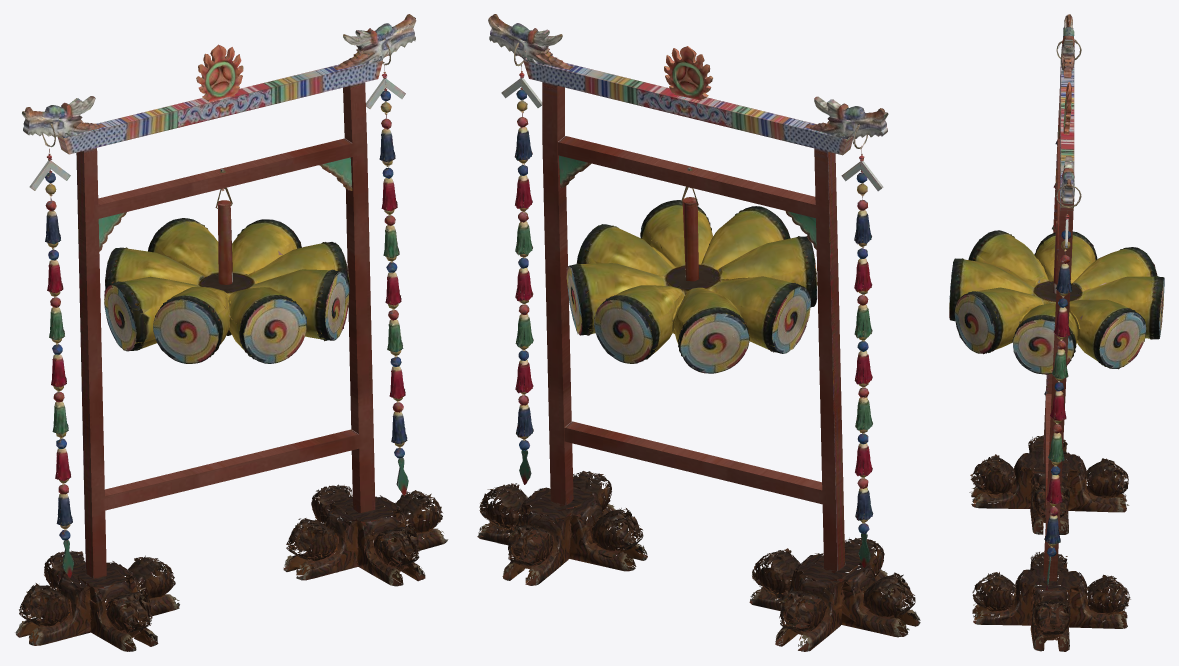
The model's file is nogo.glb.
3 views of the same model, side by side, from view 1: azimuth 30°, elevation 25°; view 2: azimuth 150°, elevation 25°; view 3: azimuth 270°, elevation 25° (orthographic). The views are drawn at different scales.
Parts seen in each view (by area): view 1: Jongmyo Jerye_Royal Ancestral Ritual in the Jongmyo Shrine_A; view 2: Jongmyo Jerye_Royal Ancestral Ritual in the Jongmyo Shrine_A; view 3: Jongmyo Jerye_Royal Ancestral Ritual in the Jongmyo Shrine_A.
Boxes of the visible parts, x1,y1,x2,y2 form: Jongmyo Jerye_Royal Ancestral Ritual in the Jongmyo Shrine_A: (15,14,448,651); Jongmyo Jerye_Royal Ancestral Ritual in the Jongmyo Shrine_A: (477,14,920,651); Jongmyo Jerye_Royal Ancestral Ritual in the Jongmyo Shrine_A: (949,14,1164,651).
Bounding box in the file's own units: 1721 × 2088 × 849.
2 materials, 2 textured.
